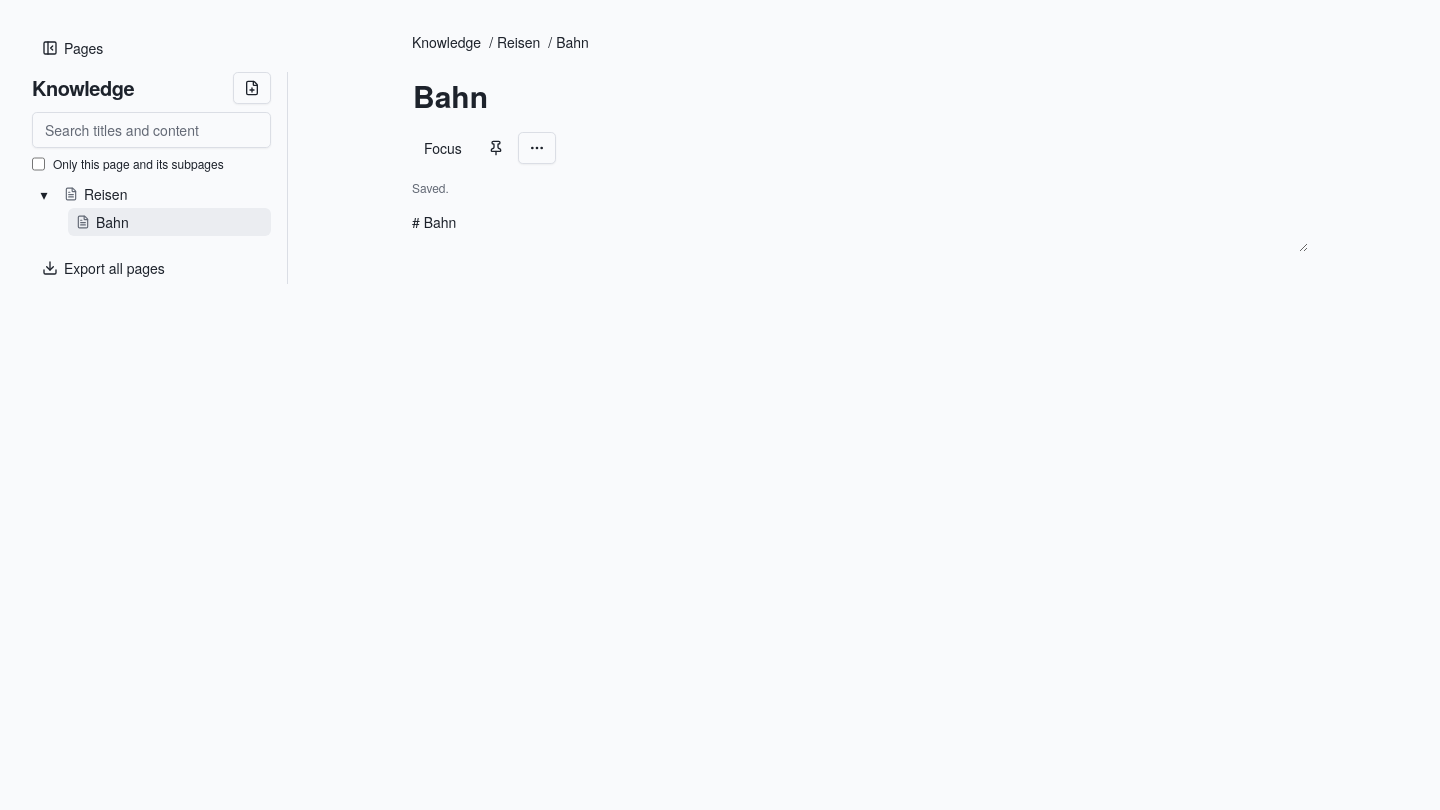
Test: Knowledge › says a page that has never been changed has nothing behind it
Click the button named "Page actions" at (537,148), box [518, 132, 556, 164]
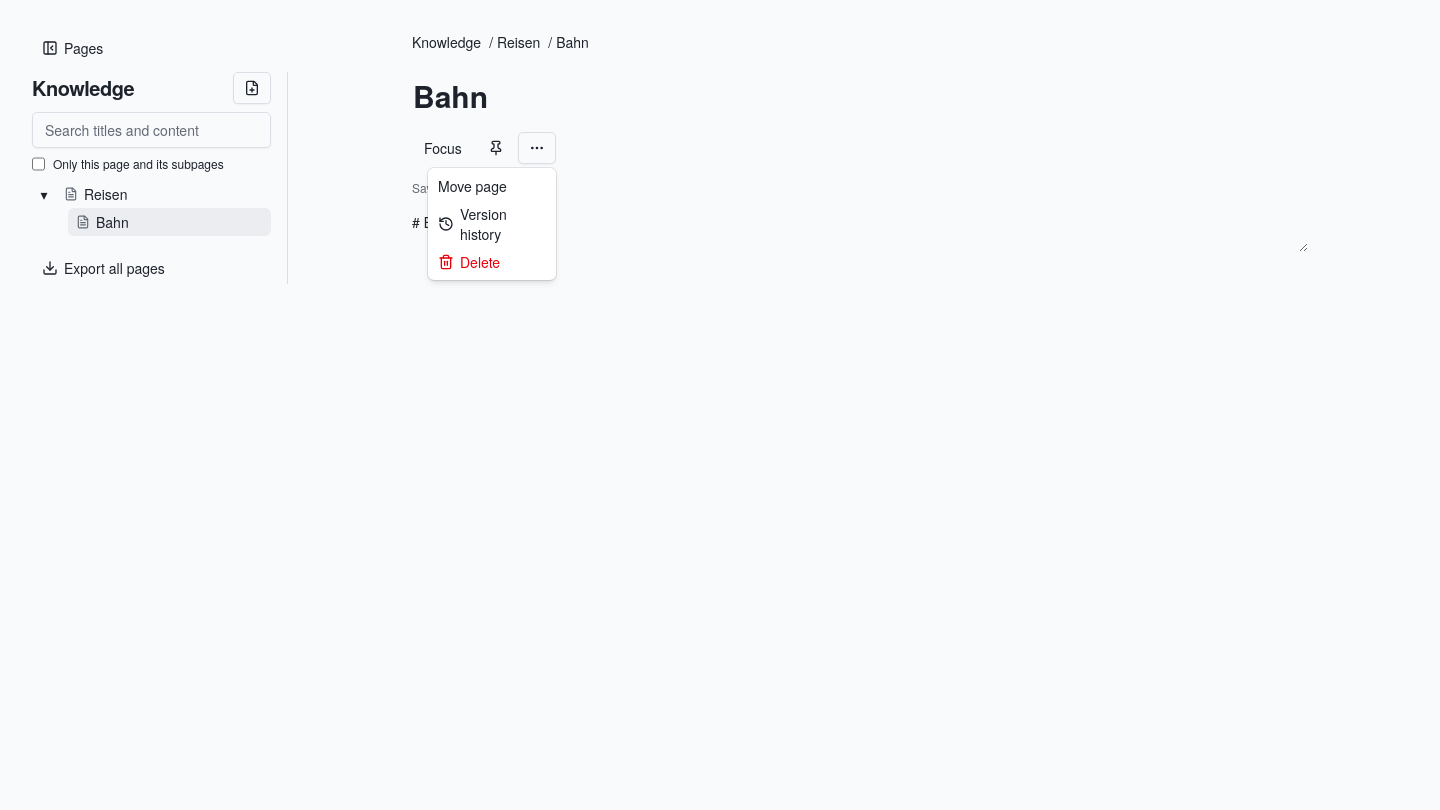
Click the menu item "Version history" at (472,224), box [438, 204, 507, 244]
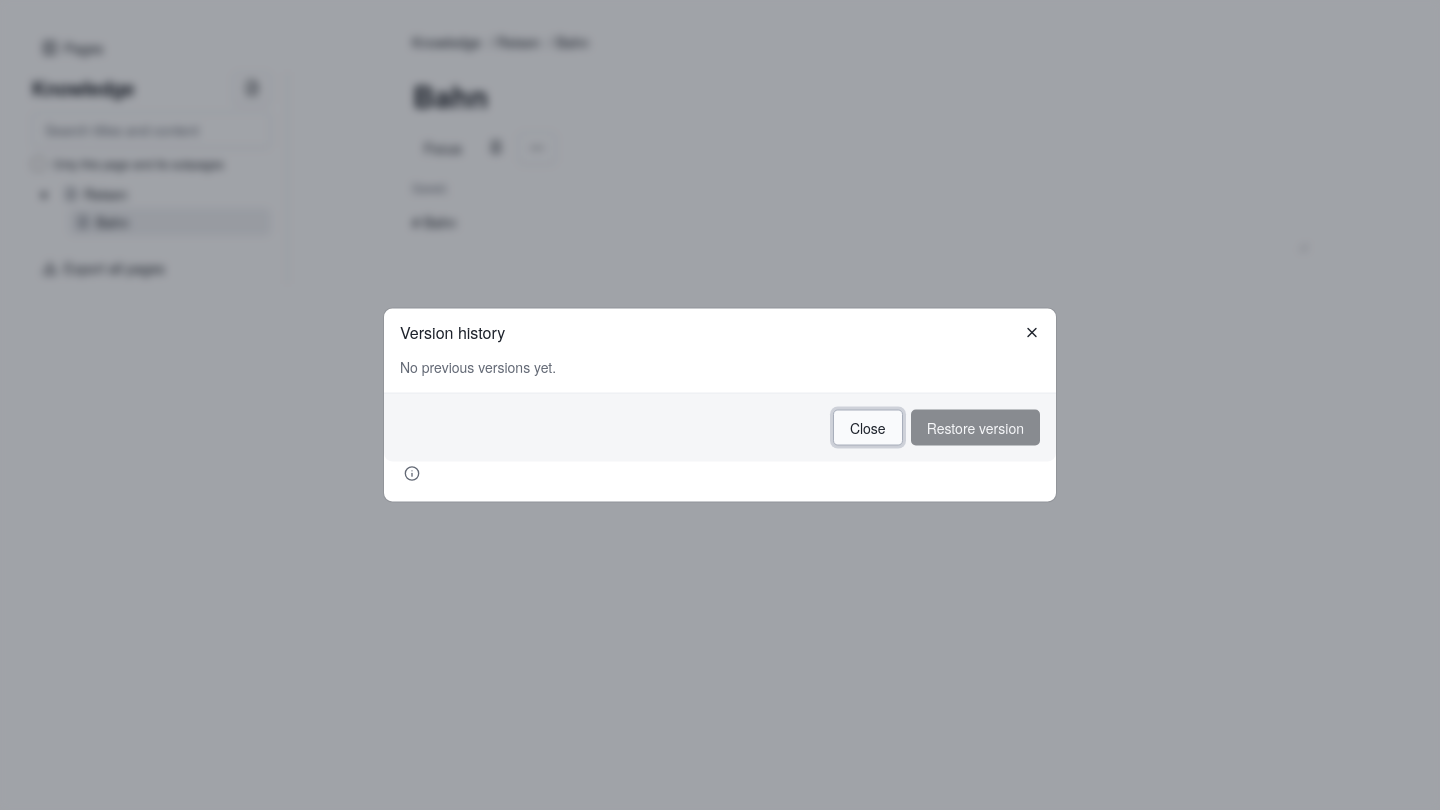
Expected: the text "No previous versions yet." is shown, [400, 356, 556, 376]
